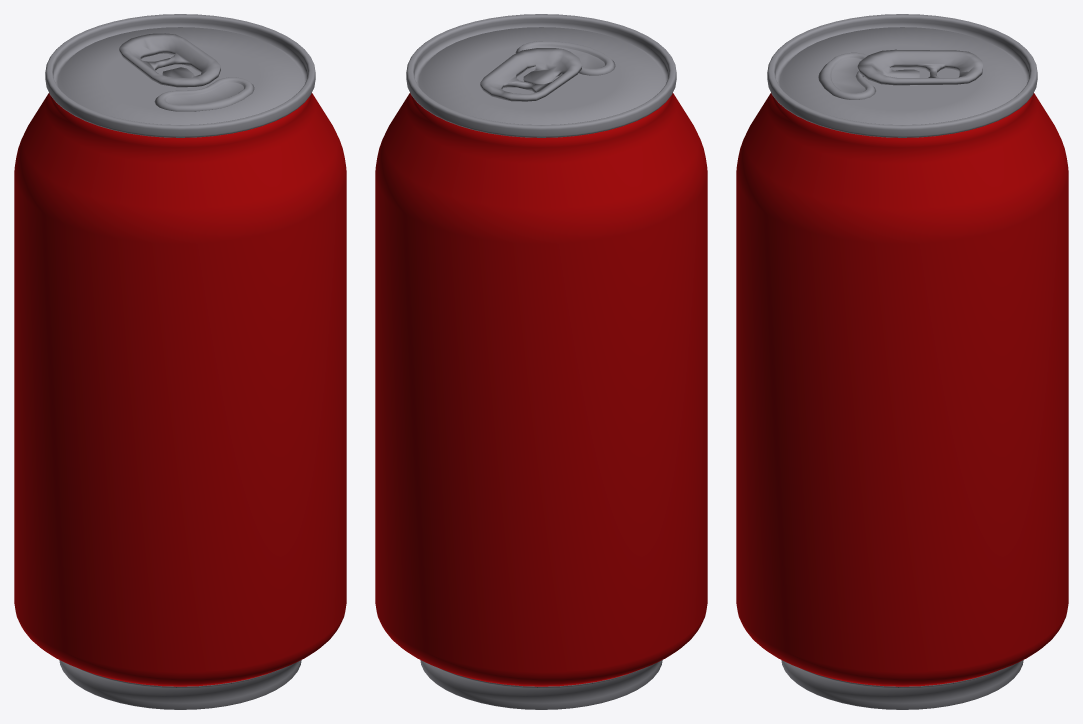
File: coke_can.obj
3 renders of one model, left to right at view 1: azimuth 30°, elevation 25°; view 2: azimuth 150°, elevation 25°; view 3: azimuth 270°, elevation 25°, orthographic.
Visible parts, largest first — view 1: Circle_Circle.001; view 2: Circle_Circle.001; view 3: Circle_Circle.001.
Part boxes in pixels (x1,y1,x2,y2): Circle_Circle.001: (14, 14, 346, 709); Circle_Circle.001: (375, 14, 707, 709); Circle_Circle.001: (736, 14, 1068, 709).
Size of the model in its own units: 0.101 by 0.1999 by 0.101.
